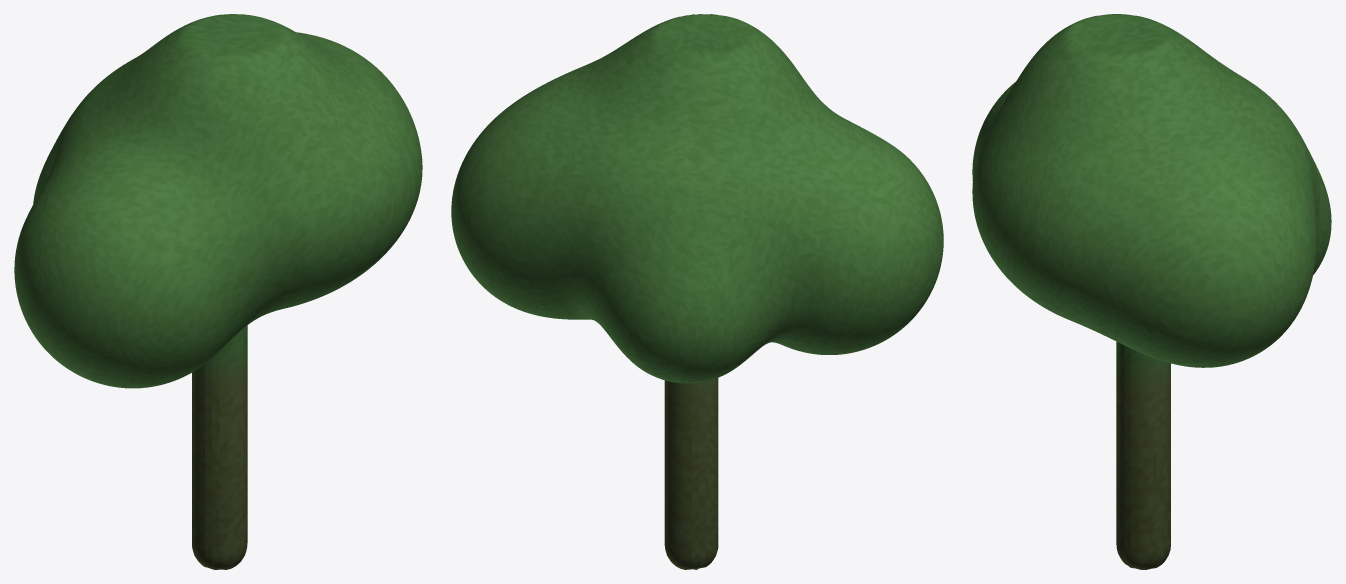
Rendered from broadleaf2.glb.
3 views of the same model, side by side, from view 1: azimuth 30°, elevation 25°; view 2: azimuth 150°, elevation 25°; view 3: azimuth 270°, elevation 25° (orthographic). The views are drawn at different scales.
Parts seen in each view (by area): view 1: broadleaf2; view 2: broadleaf2; view 3: broadleaf2.
Boxes of the visible parts, left/top/right/bottom form: broadleaf2: left=14, top=14, right=422, bottom=569; broadleaf2: left=451, top=14, right=943, bottom=569; broadleaf2: left=972, top=14, right=1331, bottom=569.
Size of the model in its own units: 3.48 by 4.25 by 2.62.
